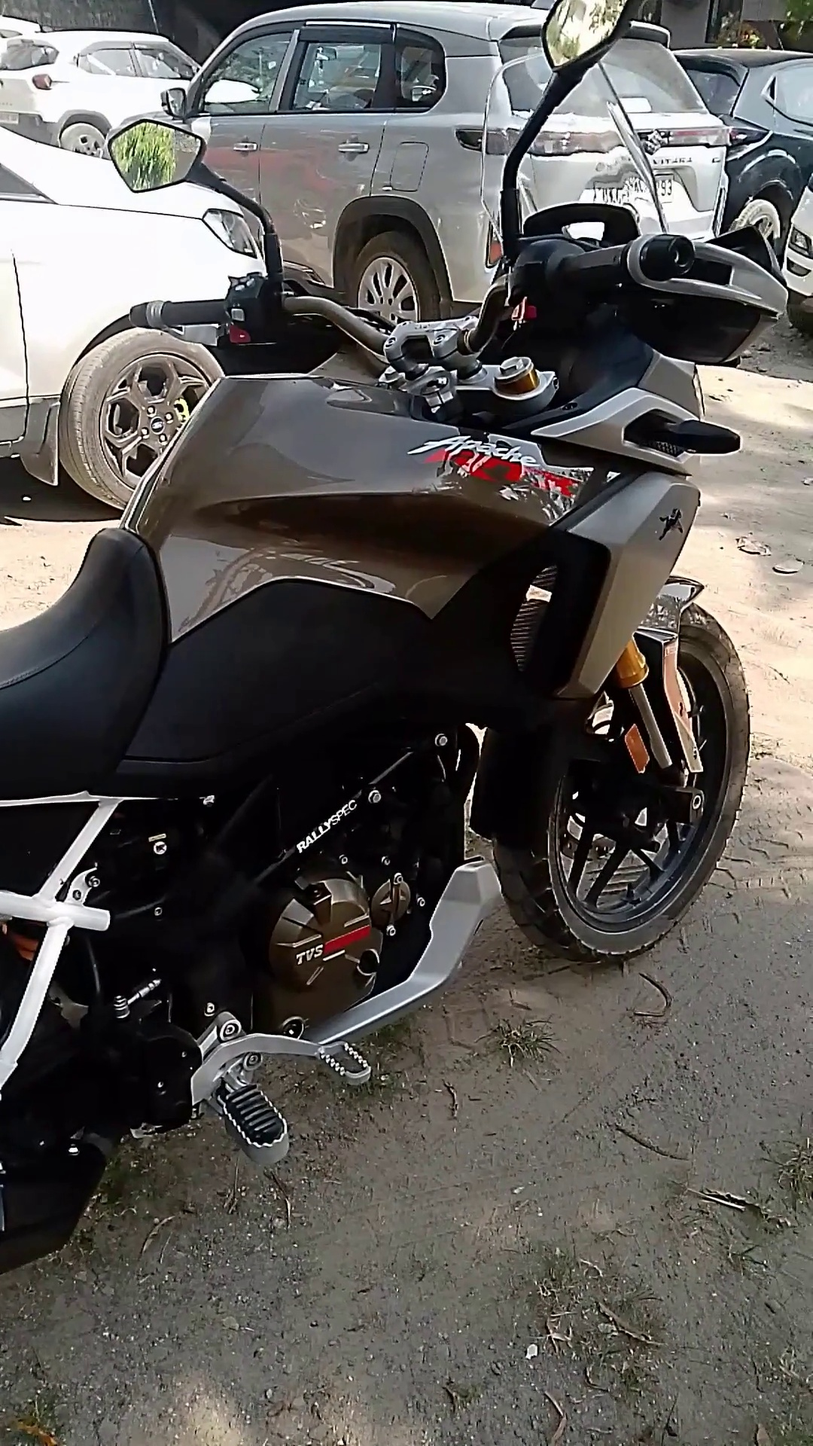bike-engine: (248, 851, 416, 1040)
bike-engine-level: (278, 1014, 307, 1039)
bike-oil-cap: (351, 941, 385, 981)
